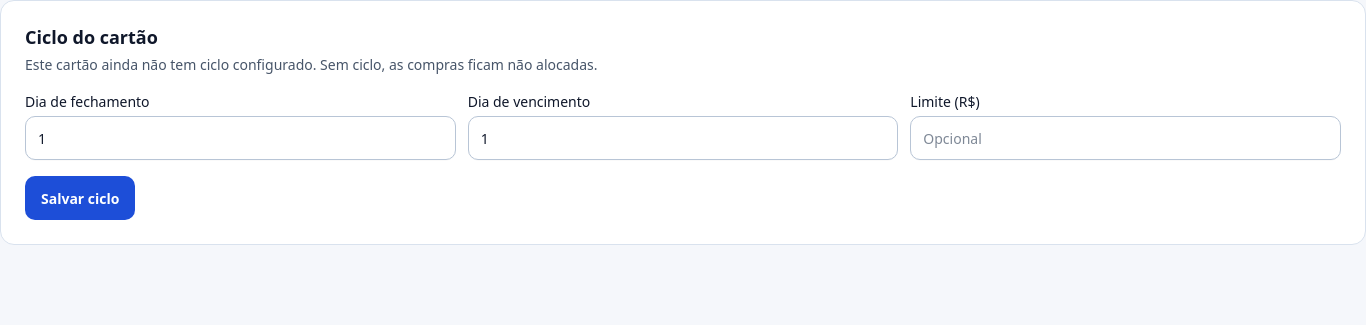
Scenario: configuração do ciclo do cartão › mostra estado de cartão sem ciclo e salva valores válidos
Expected: the text "ainda não tem ciclo configurado" is shown, left=25, top=55, right=598, bottom=74
Replace the text in the number field labelled "Dia de fechamento" with "5" at (240, 138), box left=25, top=116, right=456, bottom=160
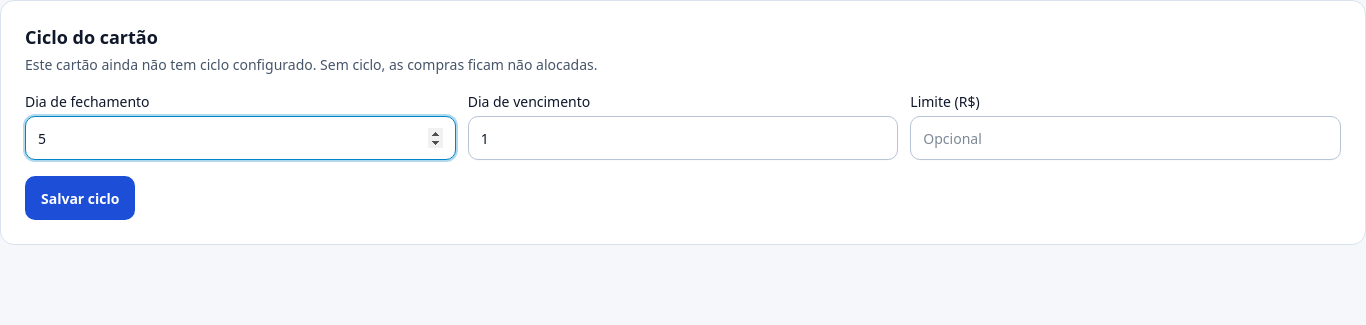
Replace the text in the number field labelled "Dia de vencimento" with "15" at (683, 138), box left=468, top=116, right=898, bottom=160
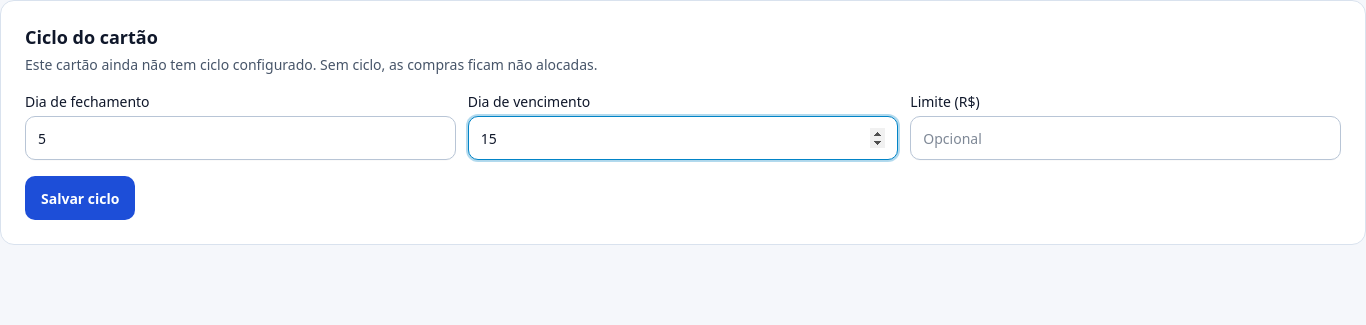
Type "1000,00" into the field labelled "Limite (R$)" at (1126, 138), box left=910, top=116, right=1341, bottom=160
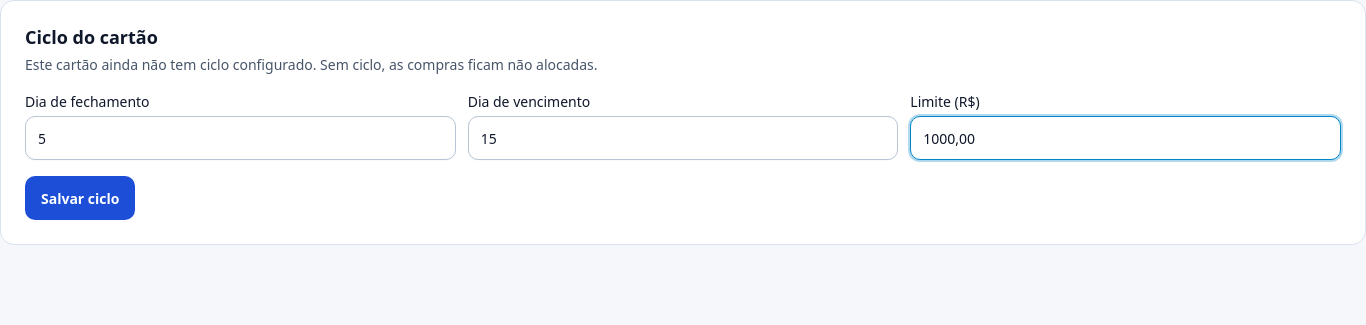
Click the button "Salvar ciclo" at (80, 198), box left=25, top=176, right=136, bottom=220
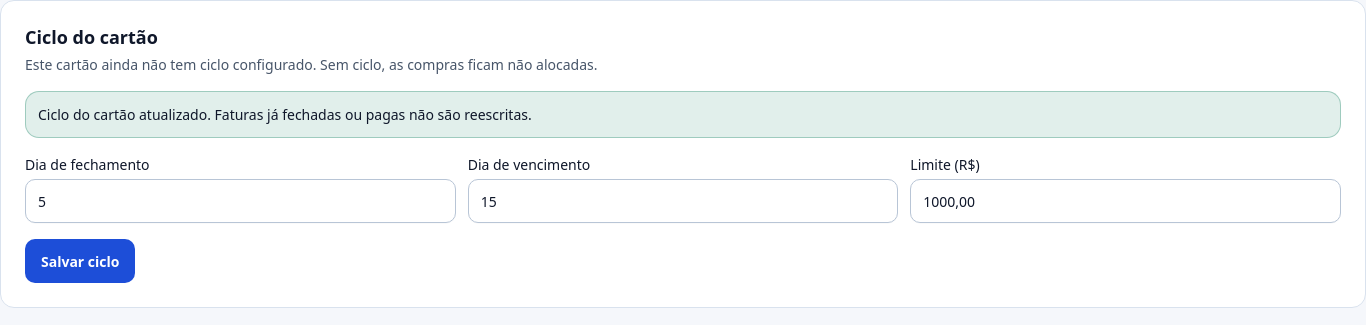
Now the text "Ciclo do cartão atualizado. Faturas já fechadas ou pagas não são reescritas." is shown, box left=25, top=91, right=1341, bottom=138
